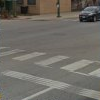crosswalk: (0, 45, 100, 78)
